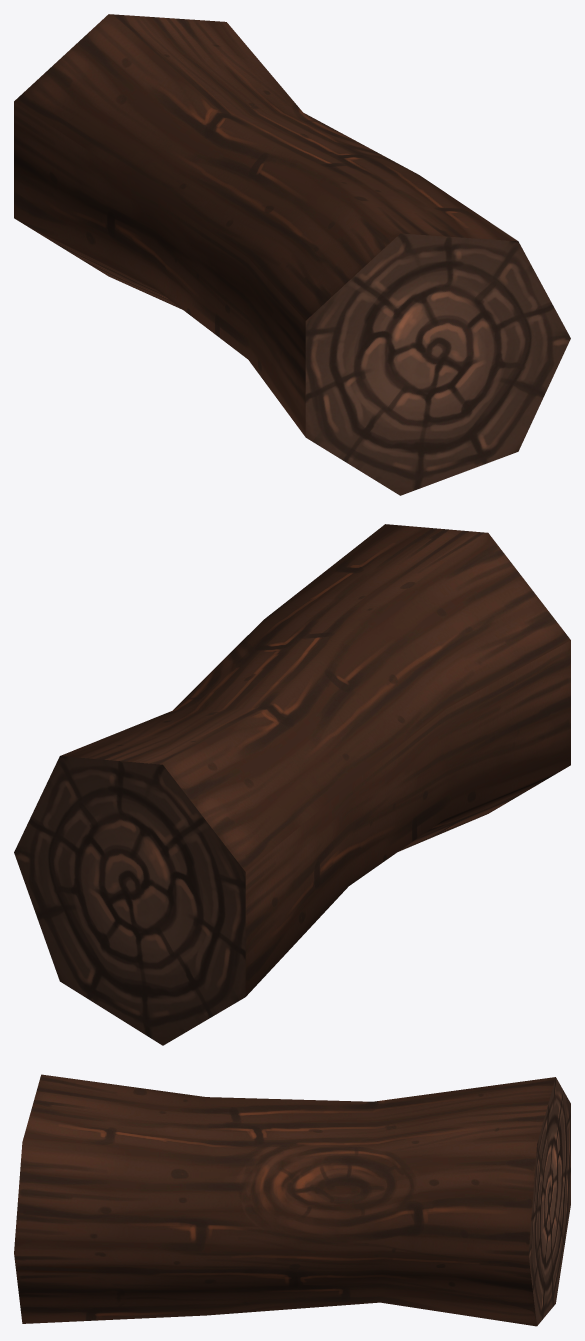
The model's file is Log.FBX.
3 views of the same model, one above another, from view 1: azimuth 30°, elevation 25°; view 2: azimuth 150°, elevation 25°; view 3: azimuth 270°, elevation 25° (orthographic). The views are drawn at different scales.
Visible parts, largest first — view 1: Log; view 2: Log; view 3: Log.
Boxes of the visible parts, left/top/right/bottom form: Log: left=14, top=14, right=570, bottom=495; Log: left=14, top=524, right=570, bottom=1045; Log: left=14, top=1074, right=570, bottom=1326.
Bounding box in the file's own units: 20.22 × 20.55 × 45.75.
